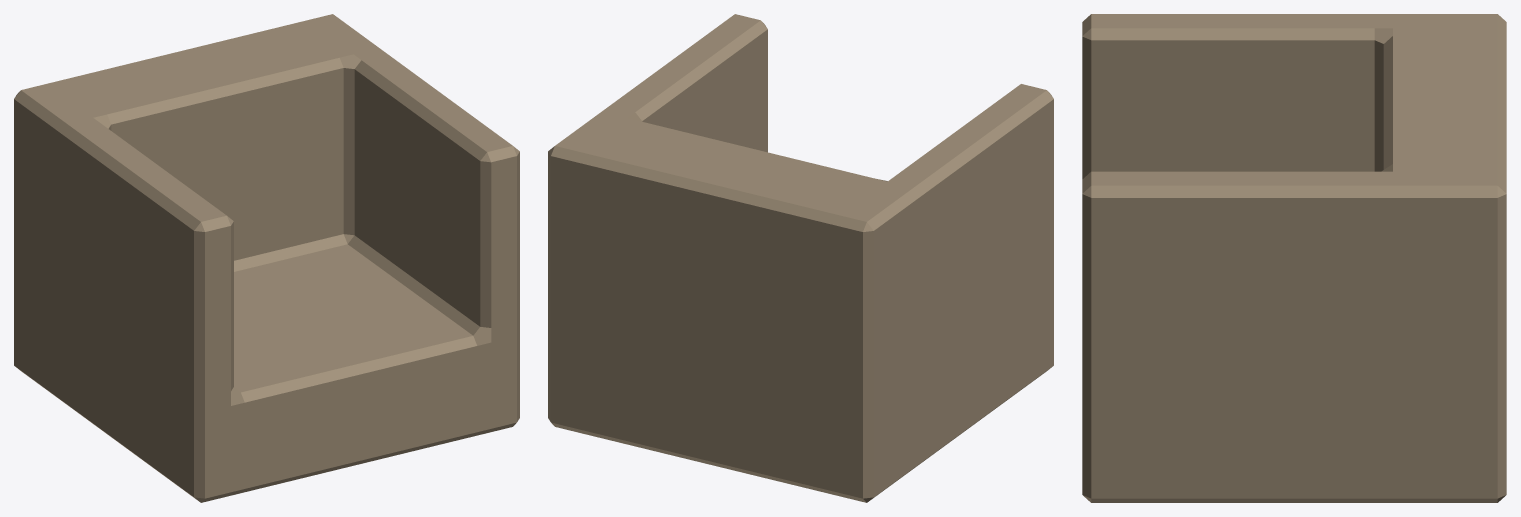
File: loveSeat.fbx
The picture shows the model from 3 angles, left to right: view 1: azimuth 30°, elevation 25°; view 2: azimuth 150°, elevation 25°; view 3: azimuth 270°, elevation 25°; orthographic projection. The views are drawn at different scales.
Visible parts, largest first — view 1: Cube; view 2: Cube; view 3: Cube.
Part boxes in pixels (left/top/right/bottom): Cube: left=14, top=14, right=519, bottom=502; Cube: left=548, top=14, right=1053, bottom=502; Cube: left=1082, top=14, right=1506, bottom=502.
Size of the model in its own units: 243 by 200 by 243.
